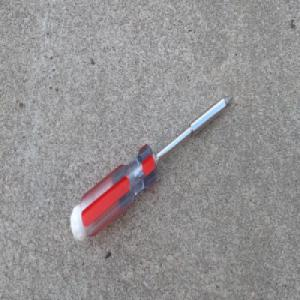Screwdriver: (68, 92, 233, 243)
